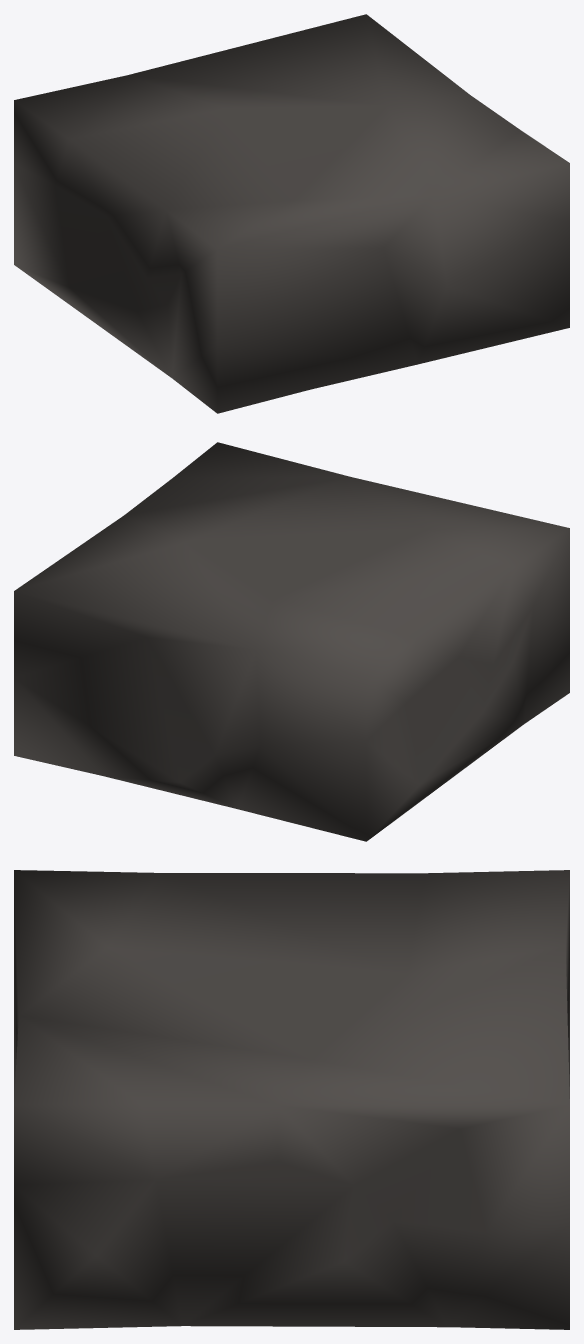
Rendered from underrock_1.glb.
The picture shows the model from 3 angles, top to bottom: view 1: azimuth 30°, elevation 25°; view 2: azimuth 150°, elevation 25°; view 3: azimuth 270°, elevation 25°; orthographic projection. The views are drawn at different scales.
Parts seen in each view (by area): view 1: underrock_1; view 2: underrock_1; view 3: underrock_1.
Boxes of the visible parts, x1=… form: underrock_1: x1=14, y1=14, x2=569, y2=413; underrock_1: x1=14, y1=442, x2=569, y2=841; underrock_1: x1=14, y1=870, x2=569, y2=1329.
Size of the model in its own units: 2.8 by 1.25 by 2.8.
Materials: 1 (1 with a texture image).
